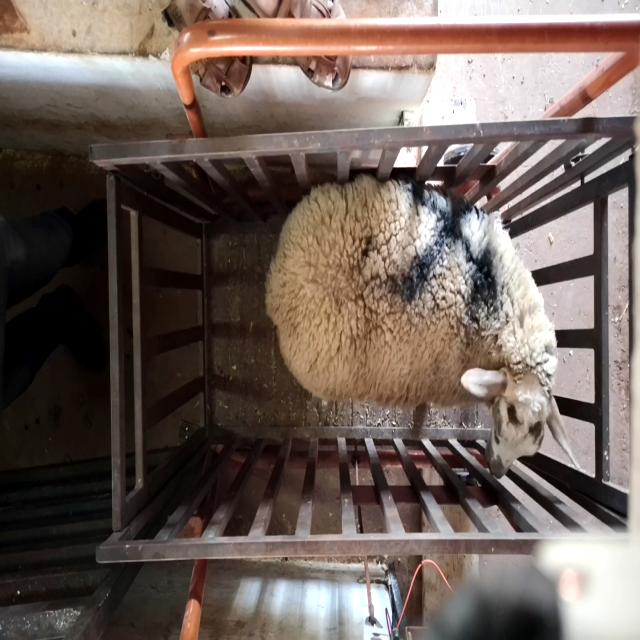sheep: (265, 173, 580, 481)
